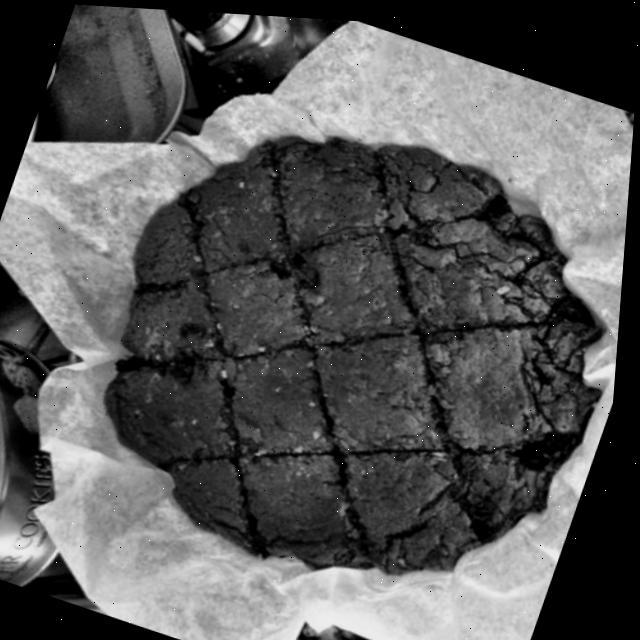蛋糕甜品: (0, 28, 638, 640)
